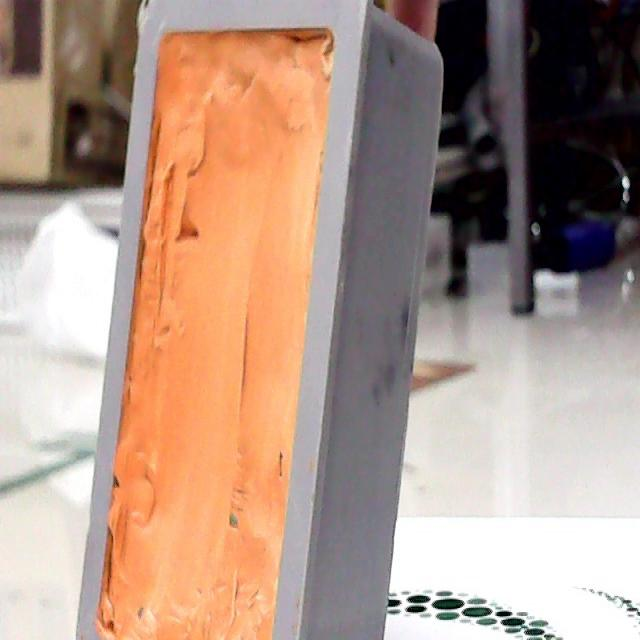block: (74, 3, 460, 640)
